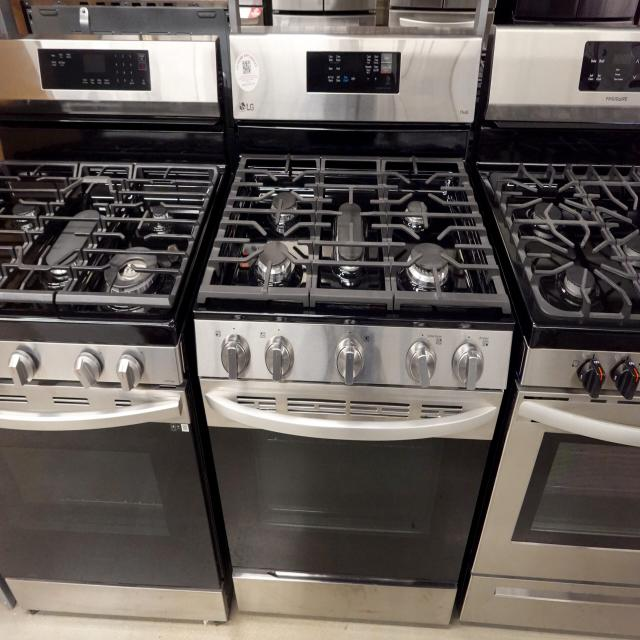knob_OFF: (378, 238, 503, 326), (76, 233, 191, 316), (230, 225, 325, 319), (374, 188, 485, 244), (243, 174, 336, 240)
